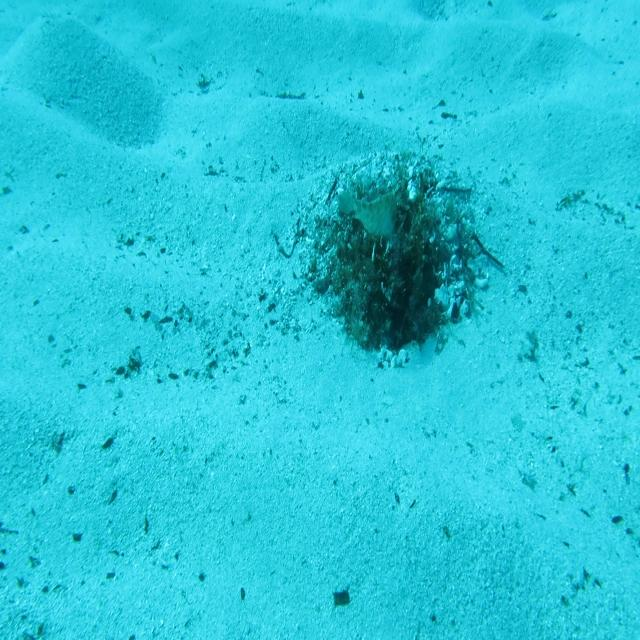NIP_CORE: (333, 180, 400, 247)
core_nest: (379, 183, 429, 241)
nest: (290, 143, 494, 375)
